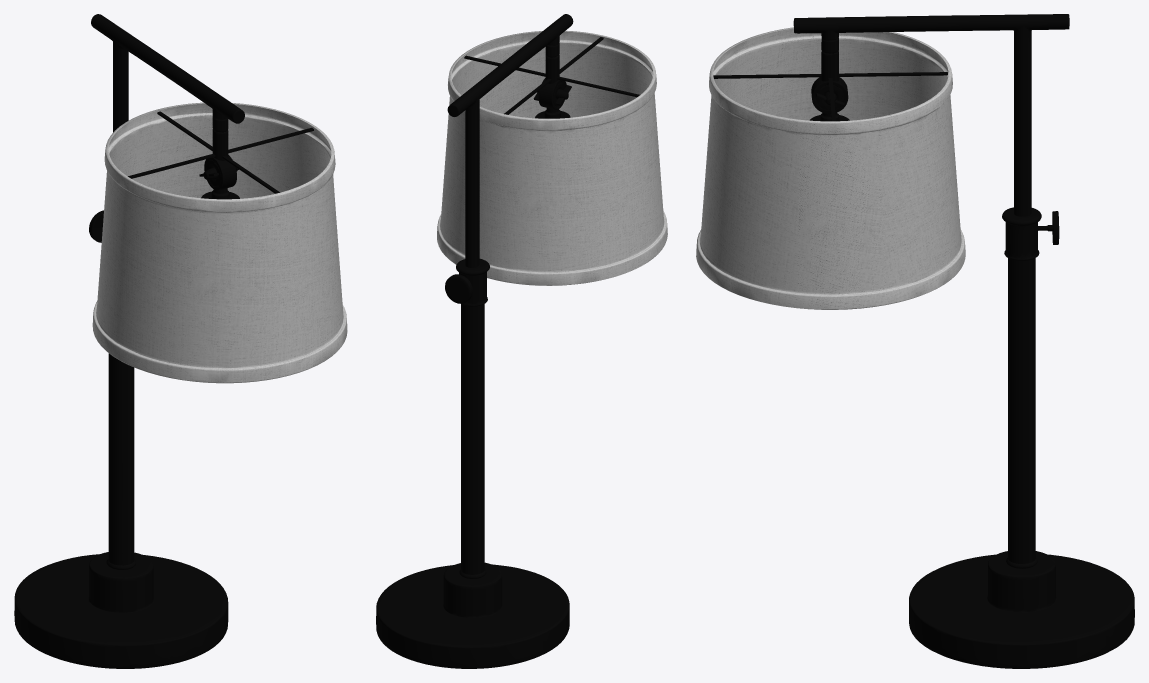
File: LFMF3250.obj
3 views of the same model, side by side, from view 1: azimuth 30°, elevation 25°; view 2: azimuth 150°, elevation 25°; view 3: azimuth 270°, elevation 25° (orthographic). The views are drawn at different scales.
Parts seen in each view (by area): view 1: not_clear_obj_1_v6, not_clear_obj_0_v6; view 2: not_clear_obj_1_v6, not_clear_obj_0_v6; view 3: not_clear_obj_1_v6, not_clear_obj_0_v6.
Boxes of the visible parts, x1=… form: not_clear_obj_1_v6: x1=92, y1=102, x2=347, y2=383; not_clear_obj_0_v6: x1=14, y1=14, x2=313, y2=668; not_clear_obj_1_v6: x1=437, y1=30, x2=667, y2=285; not_clear_obj_0_v6: x1=376, y1=14, x2=639, y2=668; not_clear_obj_1_v6: x1=696, y1=27, x2=965, y2=309; not_clear_obj_0_v6: x1=713, y1=14, x2=1134, y2=668.
Size of what is drawn, in the model's own units: 25.41 by 66.07 by 43.14.
